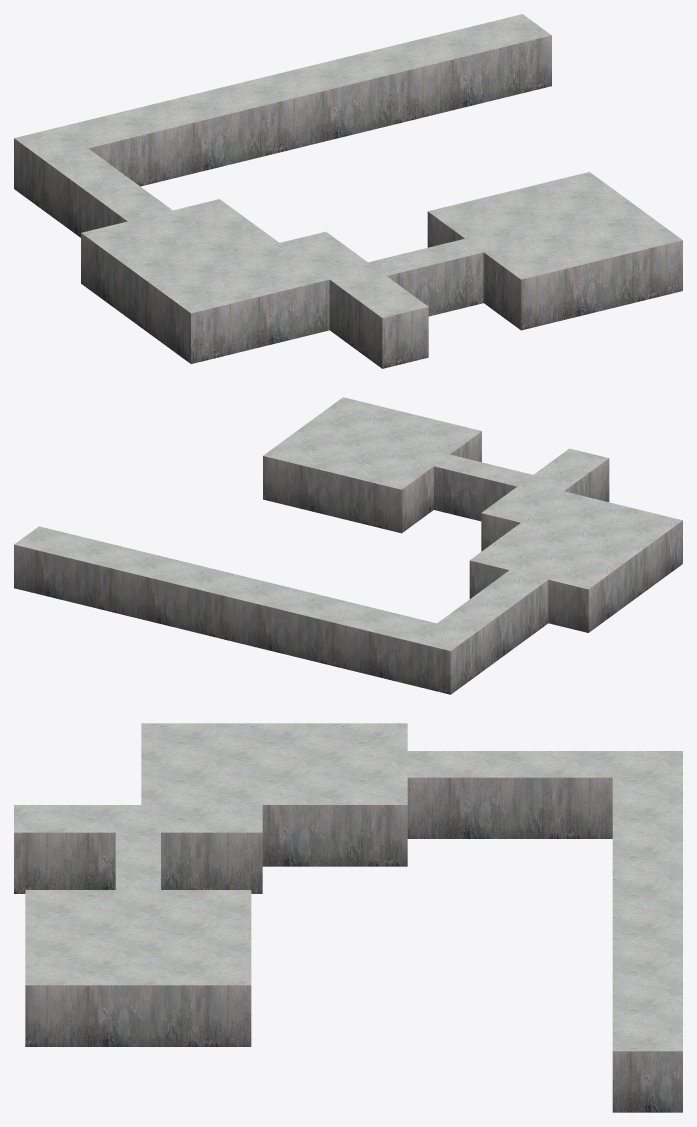
The model's file is testLevelmap.fbx.
3 renders of one model, top to bottom at view 1: azimuth 30°, elevation 25°; view 2: azimuth 150°, elevation 25°; view 3: azimuth 270°, elevation 25°, orthographic. The views are drawn at different scales.
Visible parts, largest first — view 1: Map; view 2: Map; view 3: Map.
Part boxes in pixels (left/top/right/bottom): Map: left=14, top=14, right=682, bottom=368; Map: left=14, top=397, right=682, bottom=694; Map: left=14, top=723, right=682, bottom=1112.
Size of the model in its own units: 3433 by 300 by 2959.
Materials: 3 (3 with a texture image).
